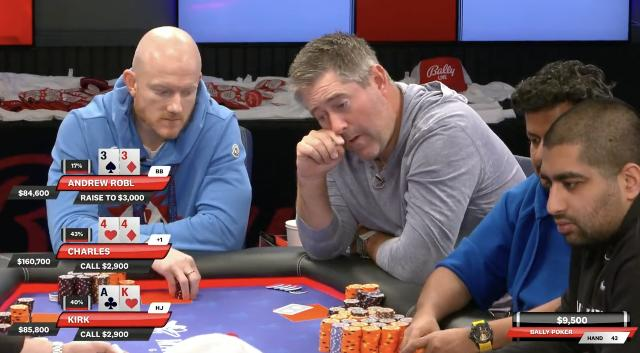3D: (118, 149, 140, 175)
3S: (98, 149, 118, 175)
4D: (118, 218, 140, 244)
4H: (99, 216, 119, 243)
AC: (99, 286, 119, 312)
KH: (120, 286, 140, 312)
